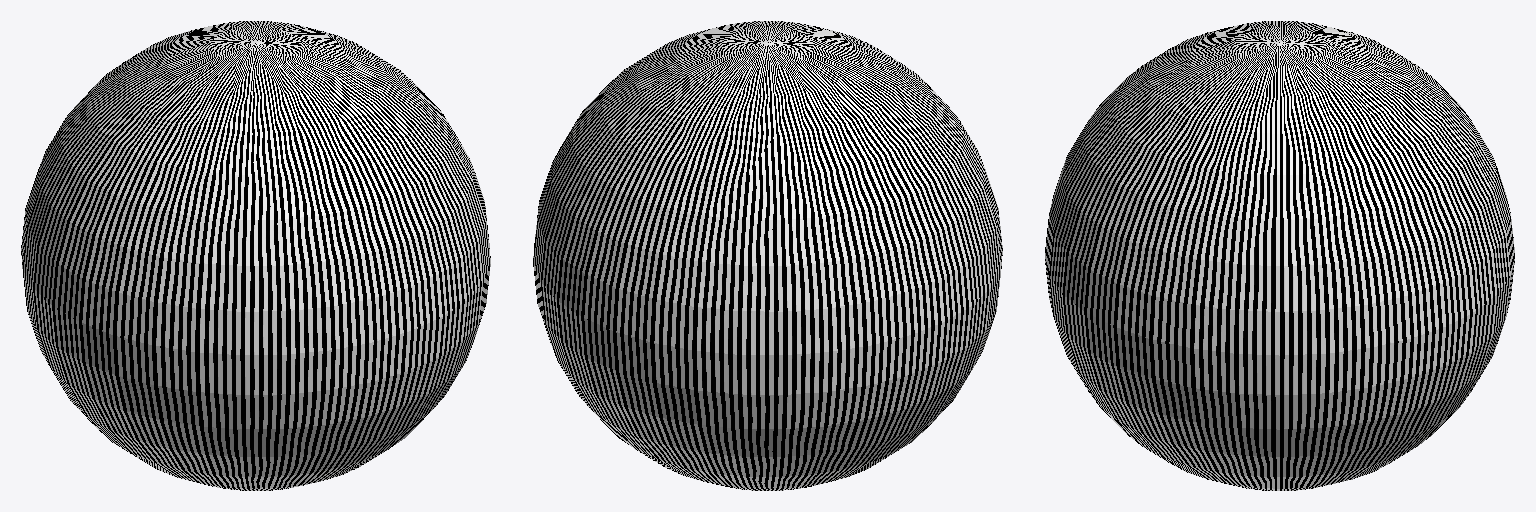
The picture shows the model from 3 angles: view 1: azimuth 30°, elevation 25°; view 2: azimuth 150°, elevation 25°; view 3: azimuth 270°, elevation 25°; orthographic projection.
Visible parts, largest first — view 1: Sphere; view 2: Sphere; view 3: Sphere.
Part boxes in pixels (bbox=[...]): Sphere: bbox=[21, 21, 490, 490]; Sphere: bbox=[533, 21, 1002, 490]; Sphere: bbox=[1045, 21, 1514, 490].
Size of the model in its own units: 0.7438 by 0.7438 by 0.7438.
Materials: 1 (1 with a texture image).